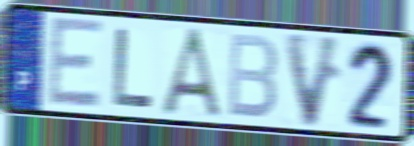2: (342, 37, 399, 136)
A: (157, 25, 229, 122)
B: (225, 31, 280, 122)
E: (47, 14, 106, 111)
L: (111, 25, 157, 111)
V: (282, 29, 345, 131)
